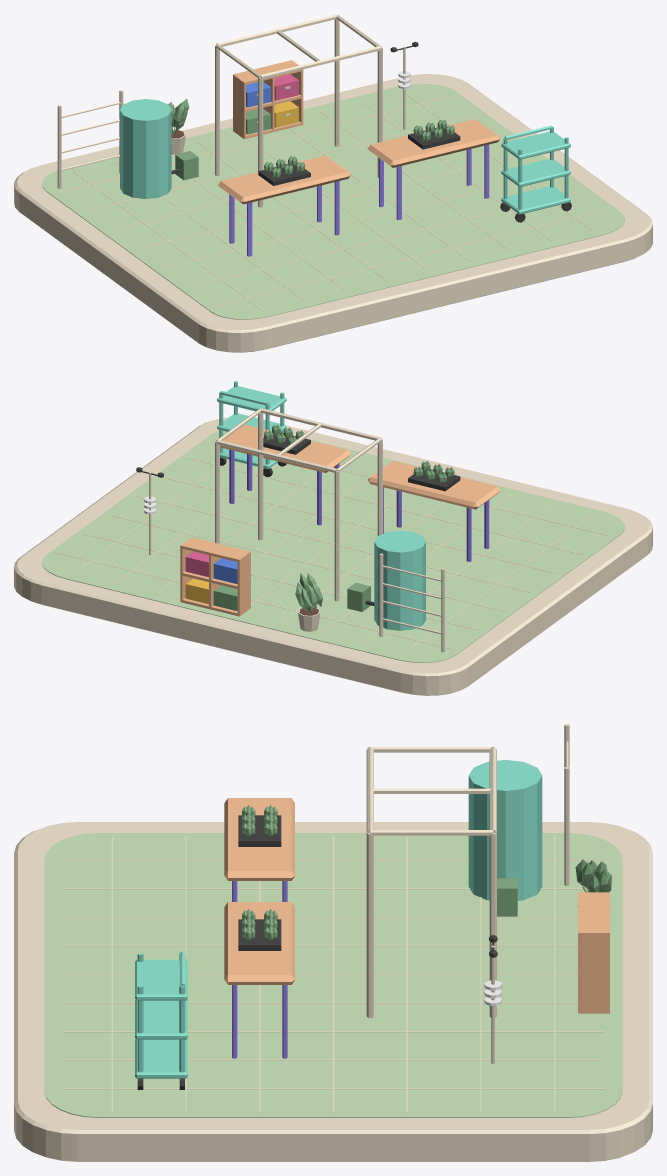
3 renders of one model, top to bottom at view 1: azimuth 30°, elevation 25°; view 2: azimuth 150°, elevation 25°; view 3: azimuth 270°, elevation 25°, orthographic. The views are drawn at different scales.
Visible parts, largest first — view 1: COM-02 Floor Surface, COM-01 Rounded Base Direct, Water tank, Rounded table top.001, Rounded table top, Tray.004, Tray.002, Tray.003, Pot, Cubbies divider, Post.003, Roof rail (+11 smaller); view 2: COM-02 Floor Surface, COM-01 Rounded Base Direct, Water tank, Rounded table top, Rounded table top.001, Pot, Tray.004, Cubbies shelf.002, Cubbies divider, Post.001, Post.002, Roof rail.001 (+12 smaller); view 3: COM-02 Floor Surface, COM-01 Rounded Base Direct, Water tank, Rounded table top, Rounded table top.001, Cubbies divider.002, Tray.004, Tray.002, Tray.003, Post.002, Cubbies shelf.002, Post.003 (+15 smaller).
Part boxes in pixels (x1,y1,x2,y2): COM-02 Floor Surface: [42, 83, 624, 319]; COM-01 Rounded Base Direct: [14, 74, 652, 352]; Water tank: [120, 99, 171, 198]; Rounded table top.001: [367, 119, 500, 167]; Rounded table top: [218, 155, 351, 204]; Tray.004: [501, 131, 570, 159]; Tray.002: [501, 186, 570, 214]; Tray.003: [501, 159, 570, 186]; Pot: [168, 99, 189, 154]; Cubbies divider: [233, 75, 245, 138]; Post.003: [334, 19, 339, 146]; Roof rail: [260, 46, 381, 79]; COM-02 Floor Surface: [42, 430, 624, 662]; COM-01 Rounded Base Direct: [14, 417, 652, 695]; Water tank: [374, 530, 425, 630]; Rounded table top: [367, 460, 500, 509]; Rounded table top.001: [220, 424, 350, 472]; Pot: [295, 573, 322, 631]; Tray.004: [217, 386, 286, 411]; Cubbies shelf.002: [181, 537, 250, 562]; Cubbies divider: [237, 552, 250, 616]; Post.001: [334, 471, 339, 601]; Post.002: [258, 412, 263, 540]; Roof rail.001: [216, 439, 337, 472]; COM-02 Floor Surface: [44, 833, 622, 1117]; COM-01 Rounded Base Direct: [14, 822, 652, 1161]; Water tank: [468, 760, 542, 900]; Rounded table top: [224, 798, 294, 880]; Rounded table top.001: [224, 902, 294, 984]; Cubbies divider.002: [578, 933, 609, 1013]; Tray.004: [135, 959, 187, 1000]; Tray.002: [135, 1039, 187, 1078]; Tray.003: [135, 1000, 187, 1039]; Post.002: [366, 832, 373, 1017]; Cubbies shelf.002: [578, 892, 609, 933]; Post.003: [489, 832, 496, 1017].
Size of the model in its own units: 6 by 1.98 by 5.2.
Materials: 1 (1 with a texture image).
